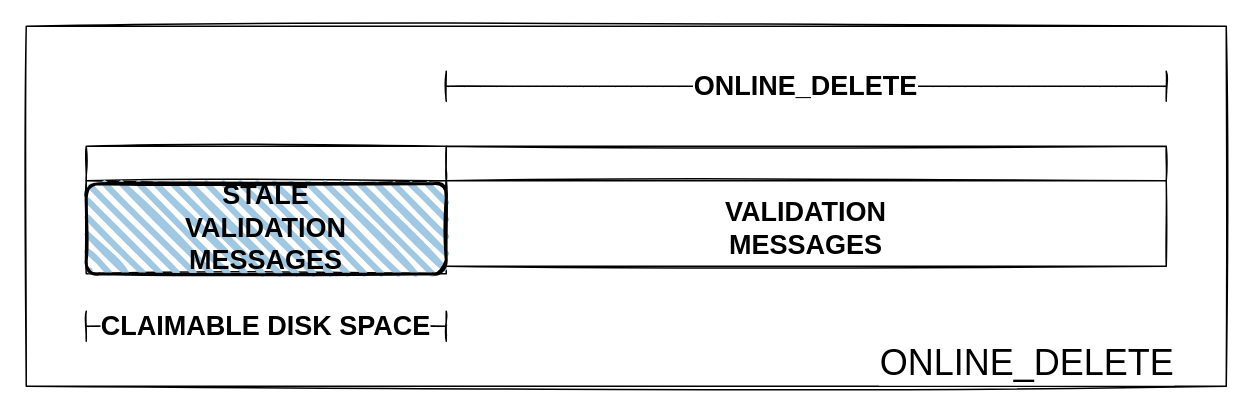
Image size: 1253x413. Some labels were removed from this diagram. The shapes that lost their labels are listed below. From the top down, each one's box as (x1, y1, x2, y2) in pixels, then its label:
(85, 145, 446, 274): DELETE
(445, 145, 1166, 266): KEEP
